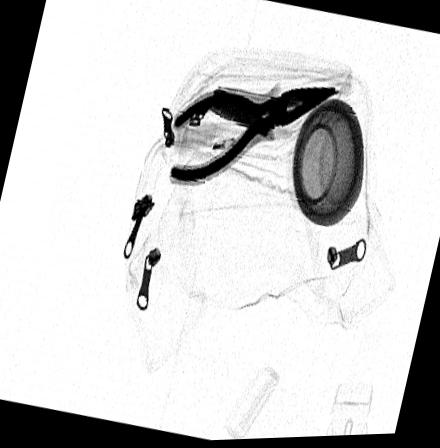Pliers: (169, 85, 336, 186)
